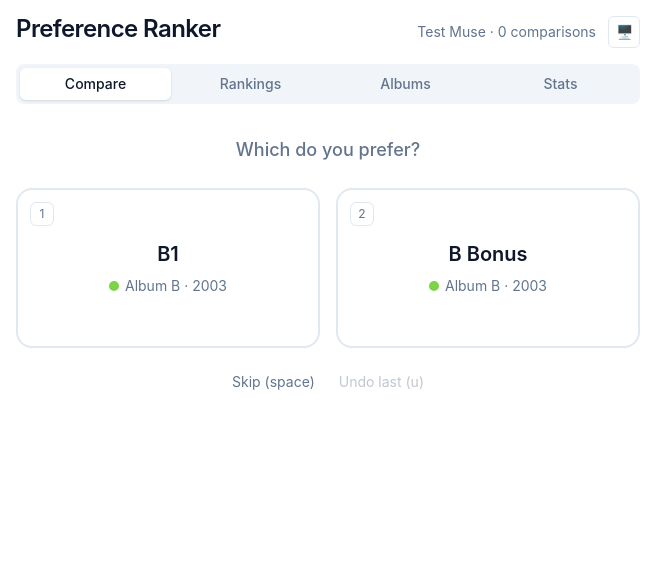
Test: App › shows session statistics
Click the button with aria-label "choose " at (168, 268), box x1=16 y1=188 x2=320 y2=348
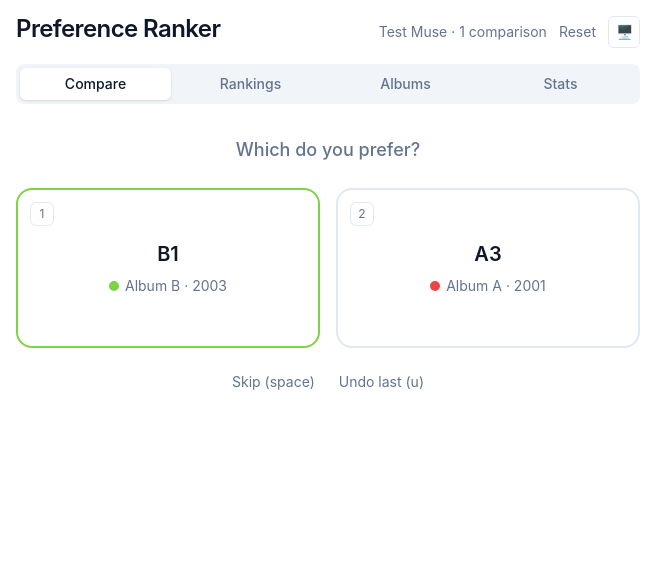
Click the button "Stats" at (560, 84), box x1=485 y1=68 x2=636 y2=100
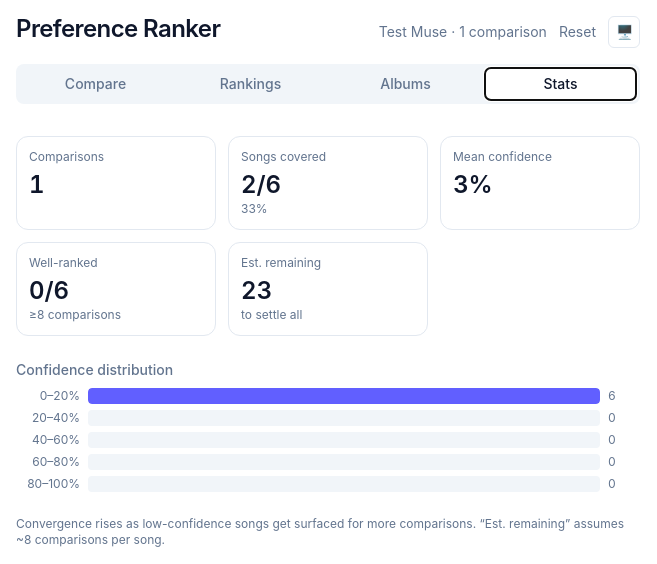
Now the heading "Confidence distribution" is shown, box x1=16 y1=361 x2=173 y2=378
Now the text "Songs covered" is shown, box x1=241 y1=149 x2=326 y2=164
